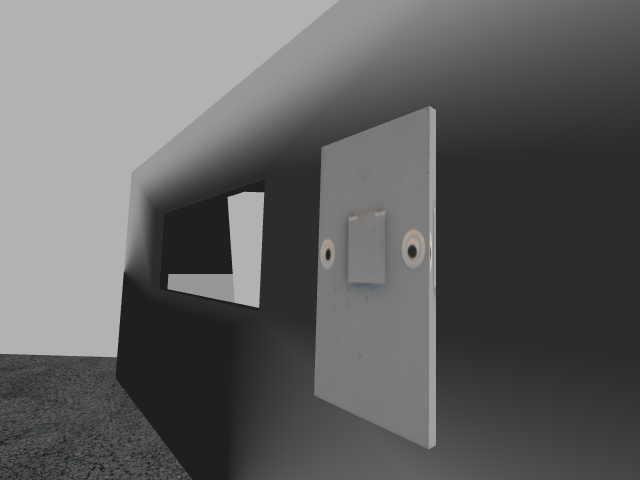facade: (319, 208, 427, 288)
